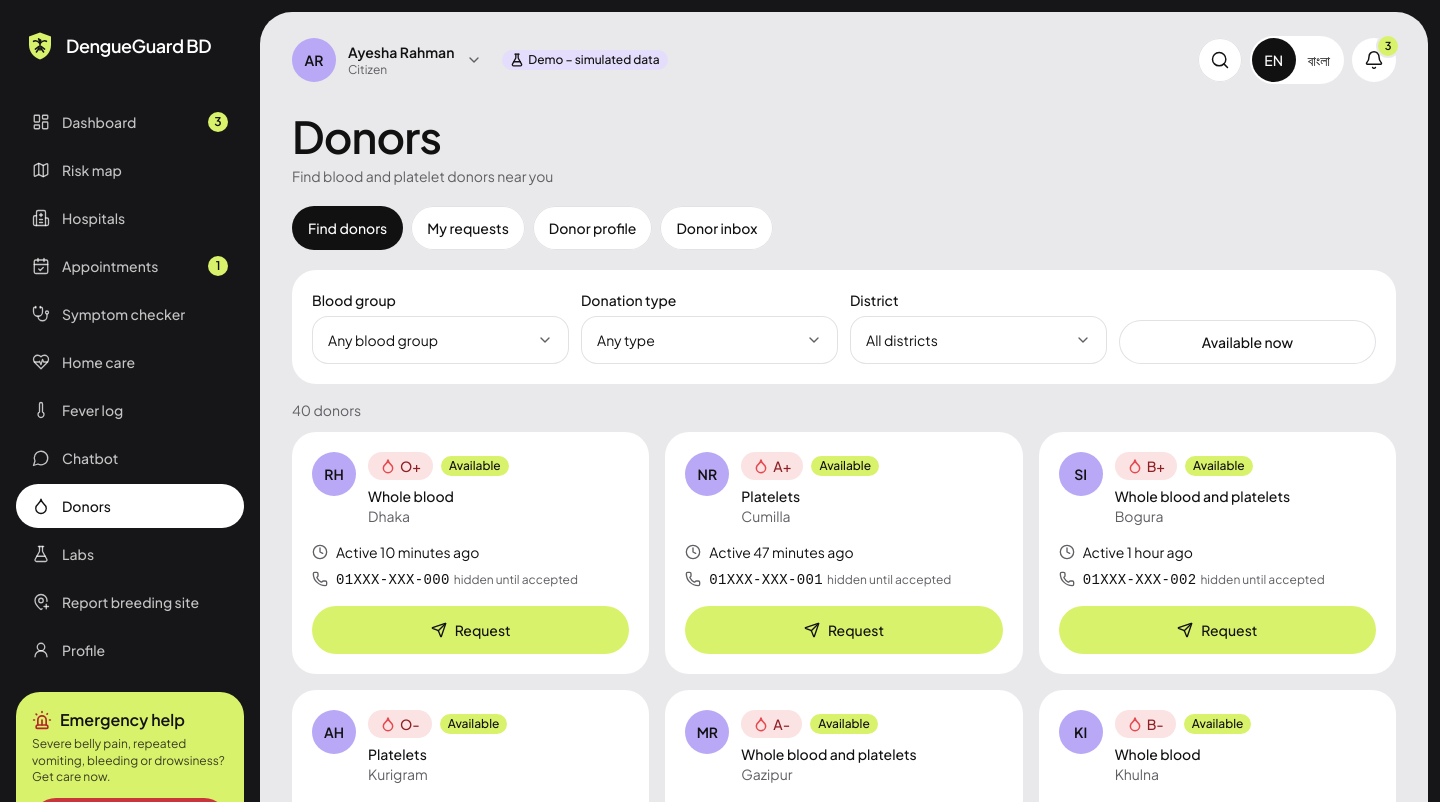
Test: Find a donor (/donors) › sends a request that appears in My requests as Sent, with the contact hidden
Click the button "Request" below "01XXX-XXX-000" at (471, 630), box left=312, top=606, right=629, bottom=654
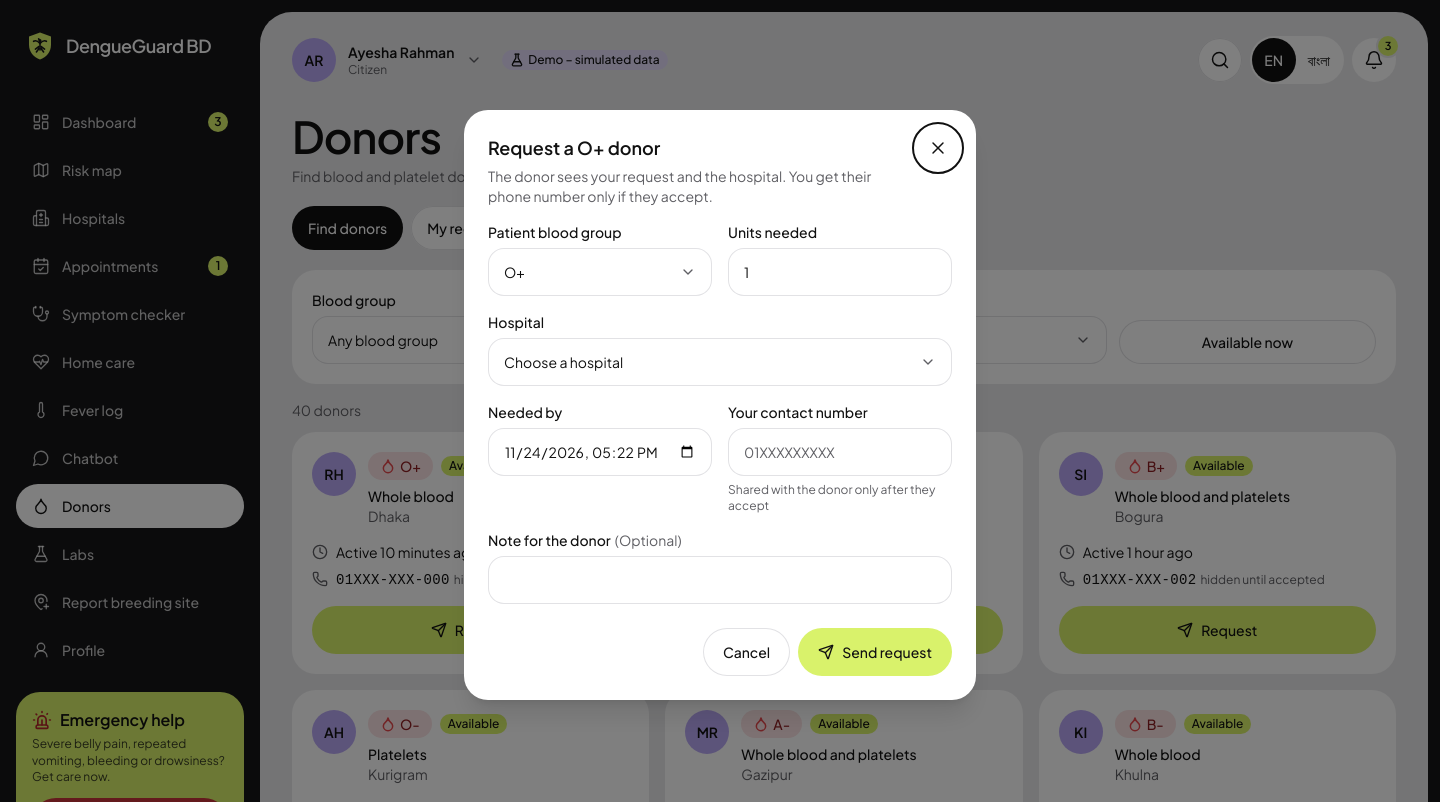
Click the button "Send request" at (875, 652), box left=798, top=628, right=952, bottom=676
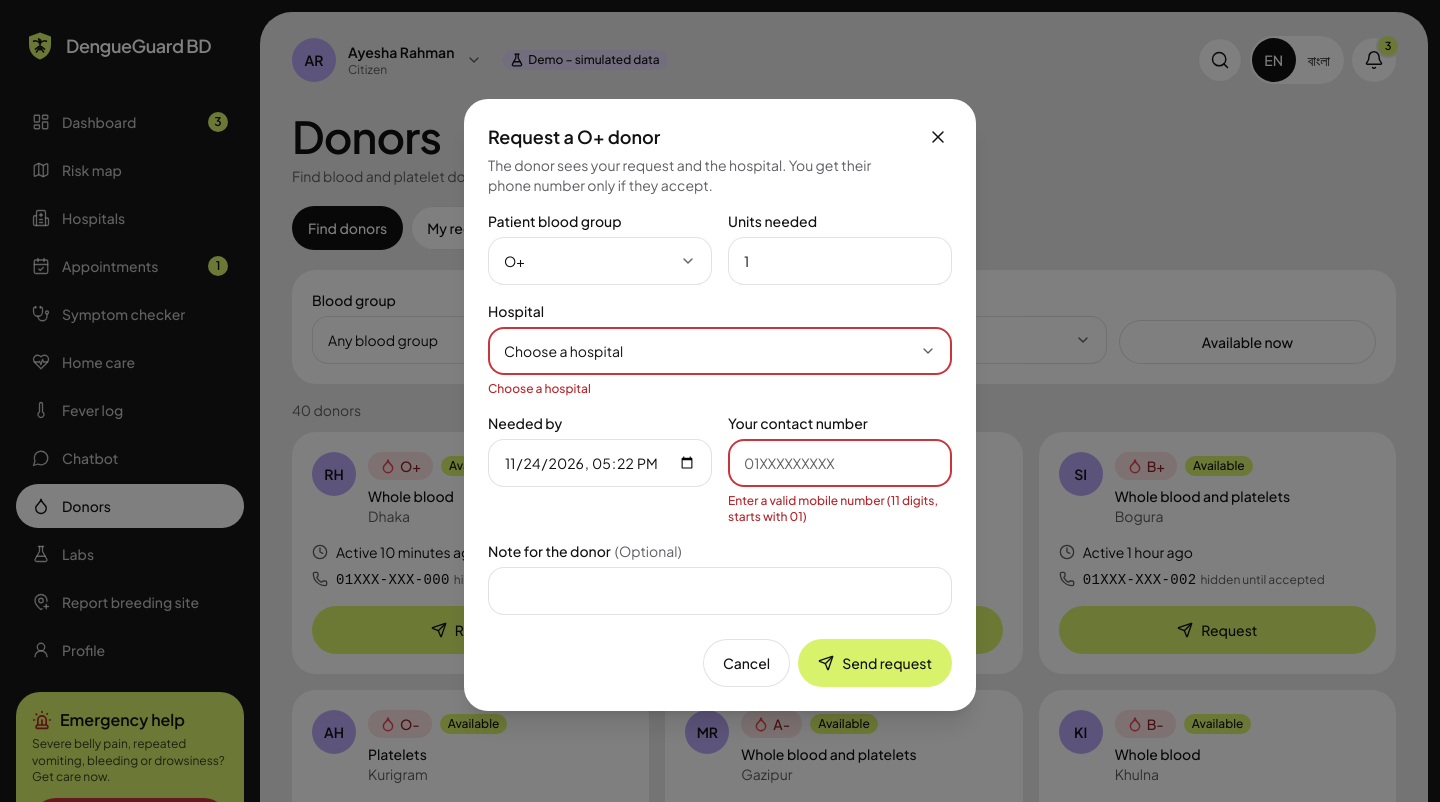
Check: the text "Choose a hospital" is shown, box left=488, top=381, right=591, bottom=396
Check: the text "Enter a valid mobile number (11 digits, starts with 01)" is shown, box left=728, top=493, right=952, bottom=525
Select "Dhaka Care Hospital (Dhaka)" in the dropdown labelled "Hospital" at (720, 351), box left=488, top=327, right=952, bottom=375
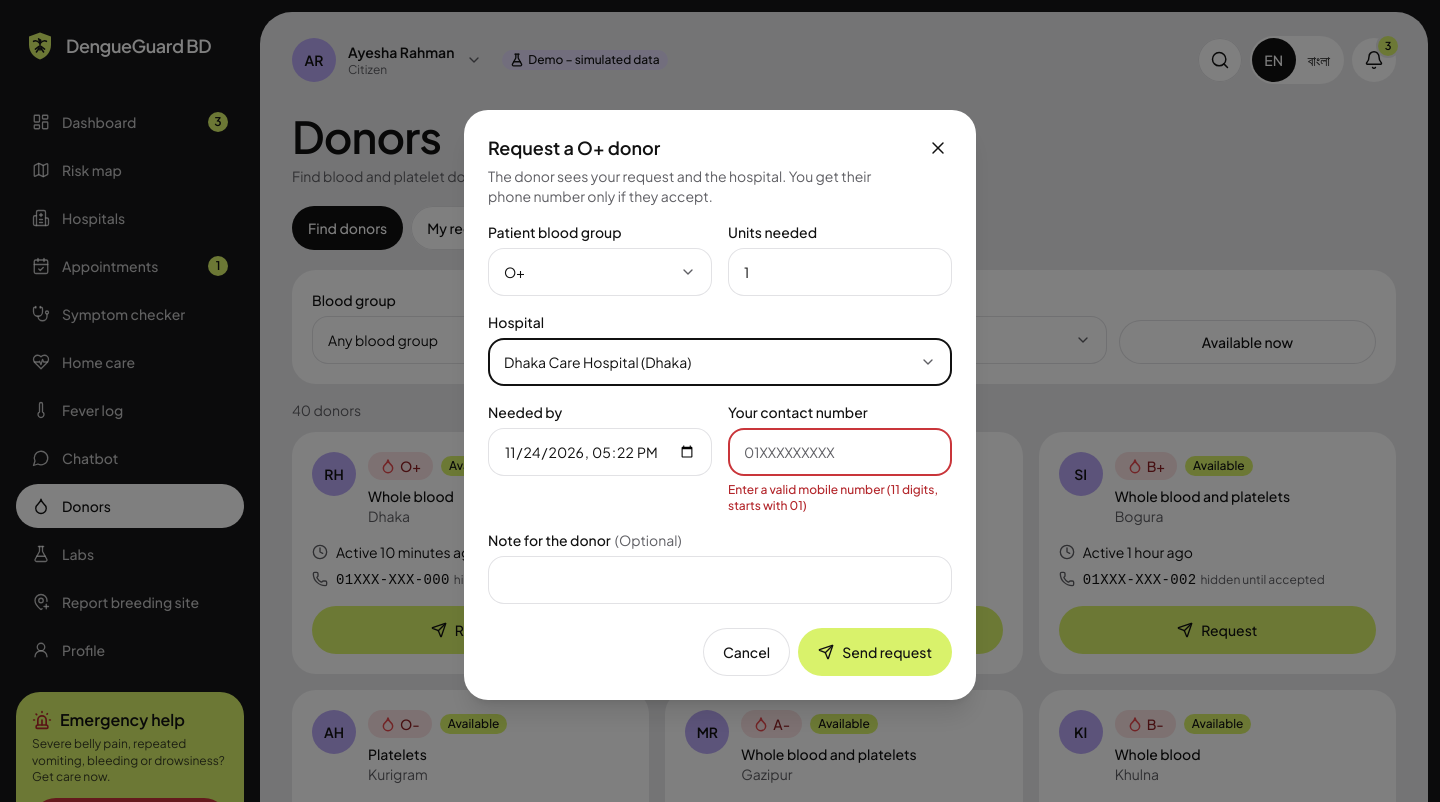
Type "01811223344" into the field labelled "Your contact number" at (840, 452), box left=728, top=428, right=952, bottom=476
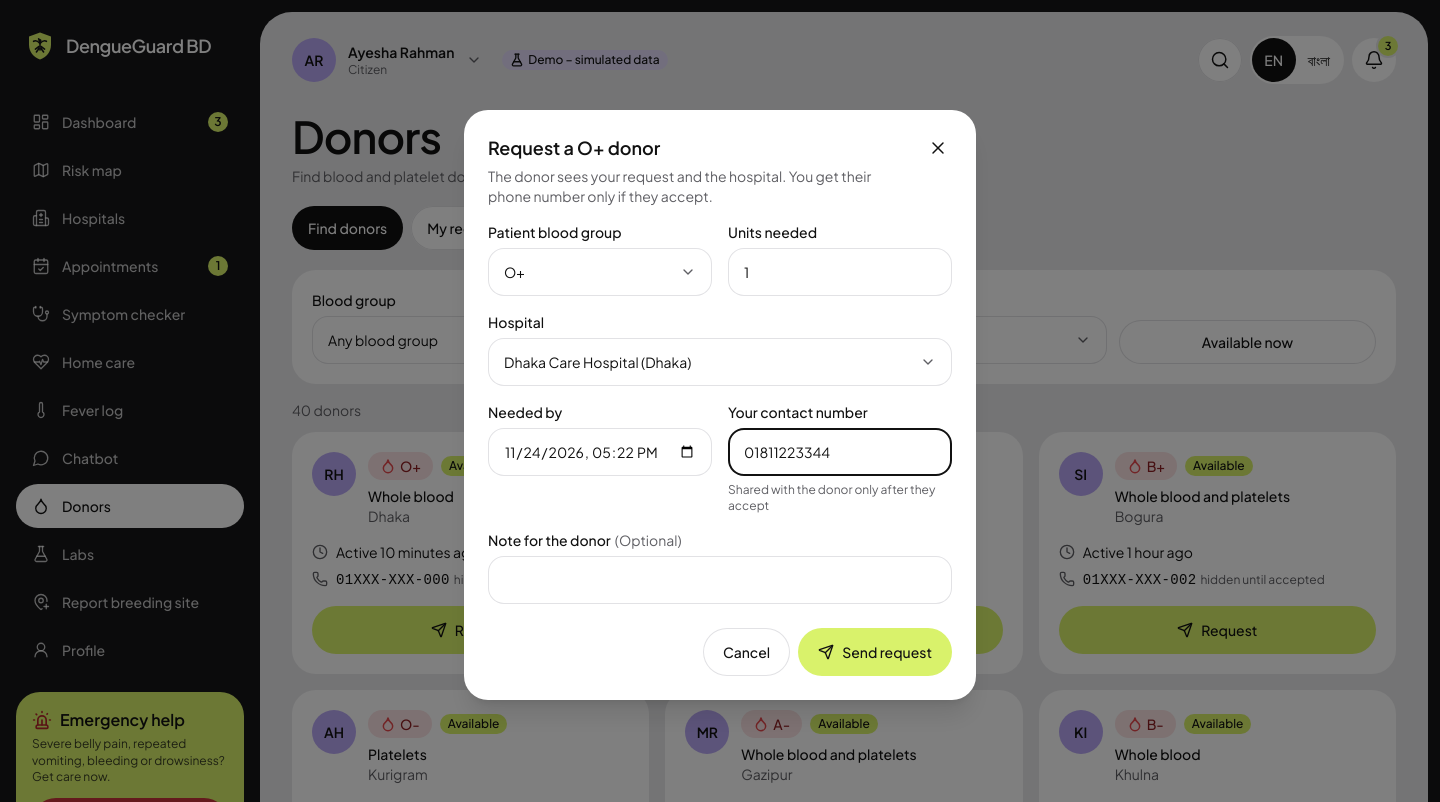
Click the button "Send request" at (875, 652), box left=798, top=628, right=952, bottom=676
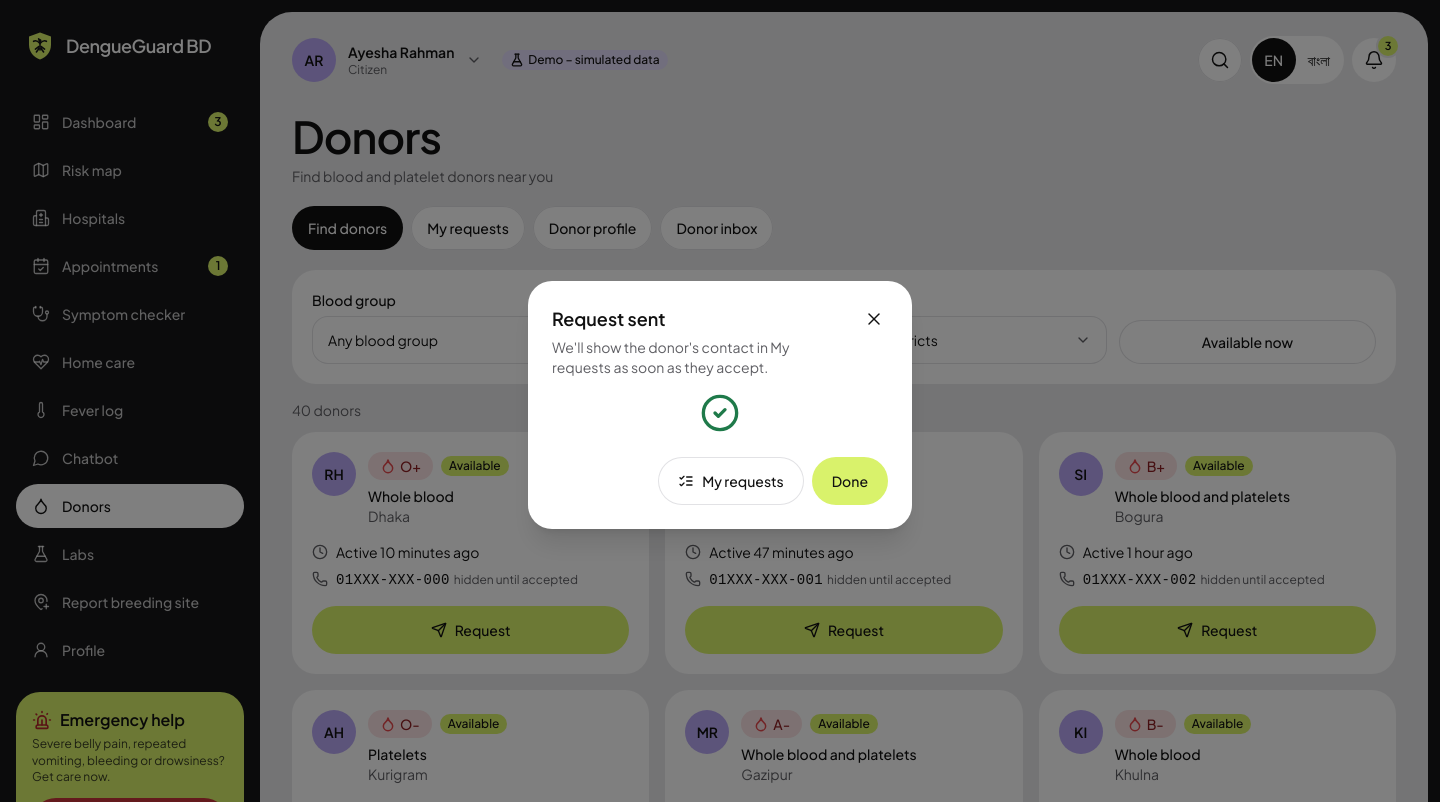
Click the link "My requests" at (731, 481), box left=658, top=457, right=804, bottom=505
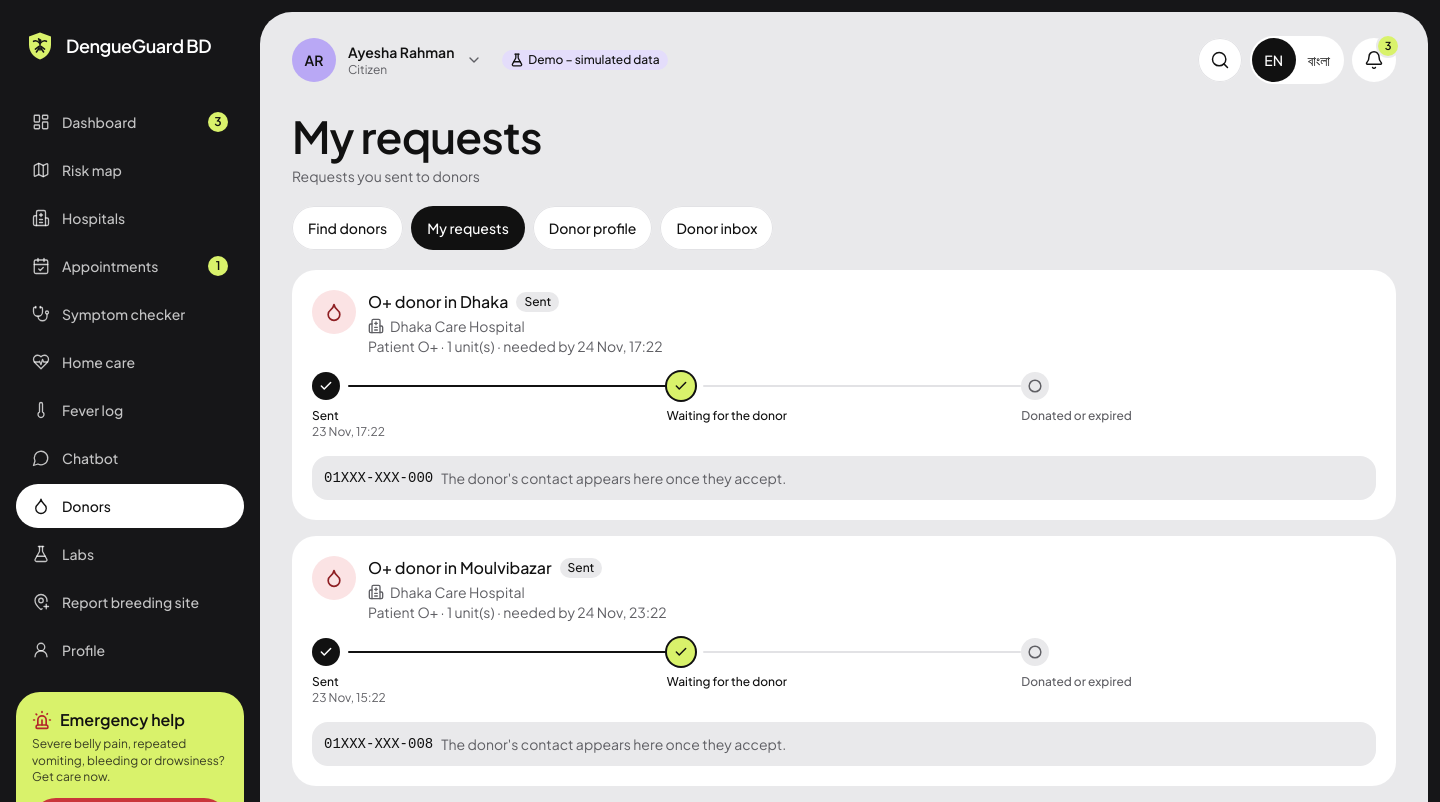
Check: the 1st text "Sent" is shown, box left=516, top=292, right=559, bottom=312
